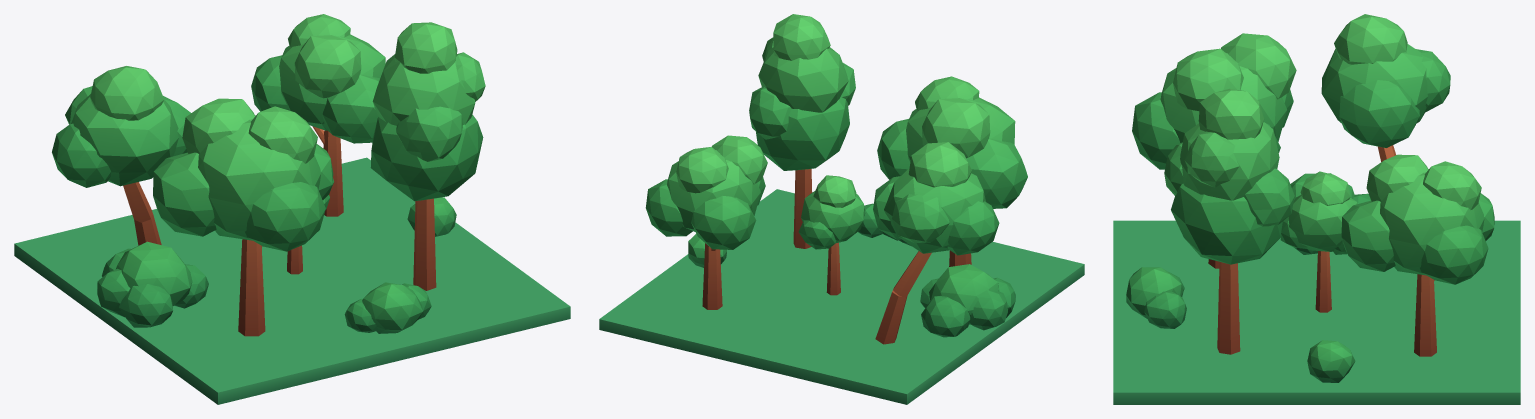
Rendered from bosque.glb.
3 views of the same model, side by side, from view 1: azimuth 30°, elevation 25°; view 2: azimuth 150°, elevation 25°; view 3: azimuth 270°, elevation 25° (orthographic). The views are drawn at different scales.
Parts seen in each view (by area): view 1: bosque; view 2: bosque; view 3: bosque.
Boxes of the visible parts, box(x1,y1,x2,y2) form: bosque: box(14, 14, 570, 404); bosque: box(599, 14, 1084, 404); bosque: box(1113, 14, 1520, 404).
Bounding box in the file's own units: 6.49 × 4.43 × 6.
1 material, 1 textured.
